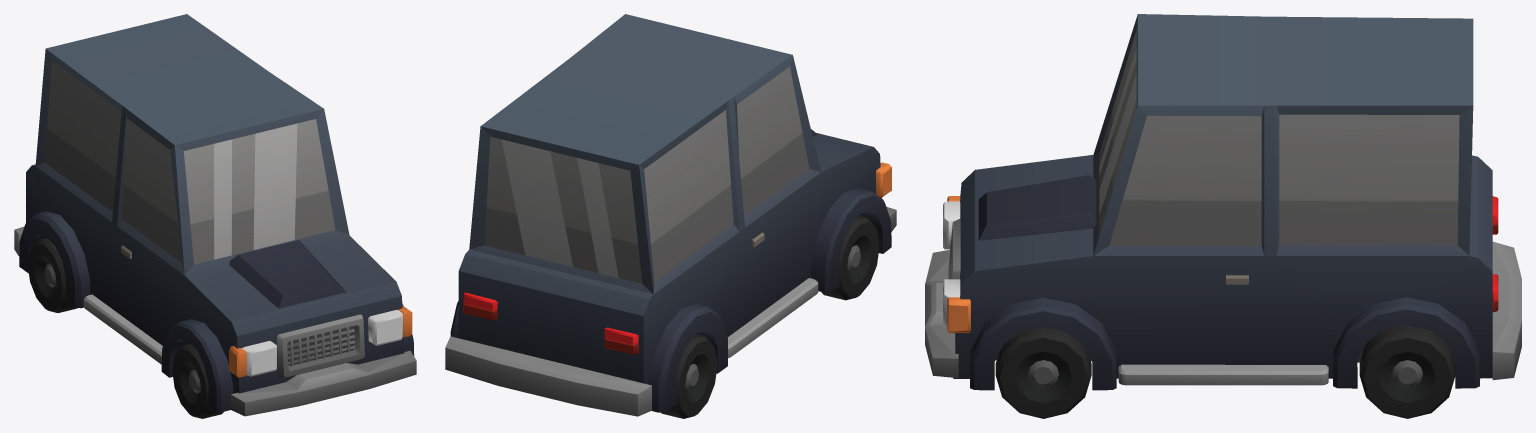
The model's file is Car_5_20.fbx.
The picture shows the model from 3 angles, left to right: view 1: azimuth 30°, elevation 25°; view 2: azimuth 150°, elevation 25°; view 3: azimuth 270°, elevation 25°; orthographic projection. The views are drawn at different scales.
Visible parts, largest first — view 1: Car_5_20, W_br, W_fr; view 2: Car_5_20, W_br, W_fr; view 3: Car_5_20, W_bl, W_fl.
Boxes of the visible parts, x1=… form: Car_5_20: x1=14, y1=14, x2=416, y2=416; W_br: x1=27, y1=237, x2=77, y2=312; W_fr: x1=172, y1=343, x2=223, y2=418; Car_5_20: x1=445, y1=14, x2=896, y2=416; W_br: x1=661, y1=334, x2=717, y2=418; W_fr: x1=821, y1=216, x2=879, y2=300; Car_5_20: x1=925, y1=14, x2=1521, y2=390; W_bl: x1=1359, y1=325, x2=1455, y2=418; W_fl: x1=995, y1=327, x2=1091, y2=418.
Size of the model in its own units: 1.13 by 1.3 by 2.33.
